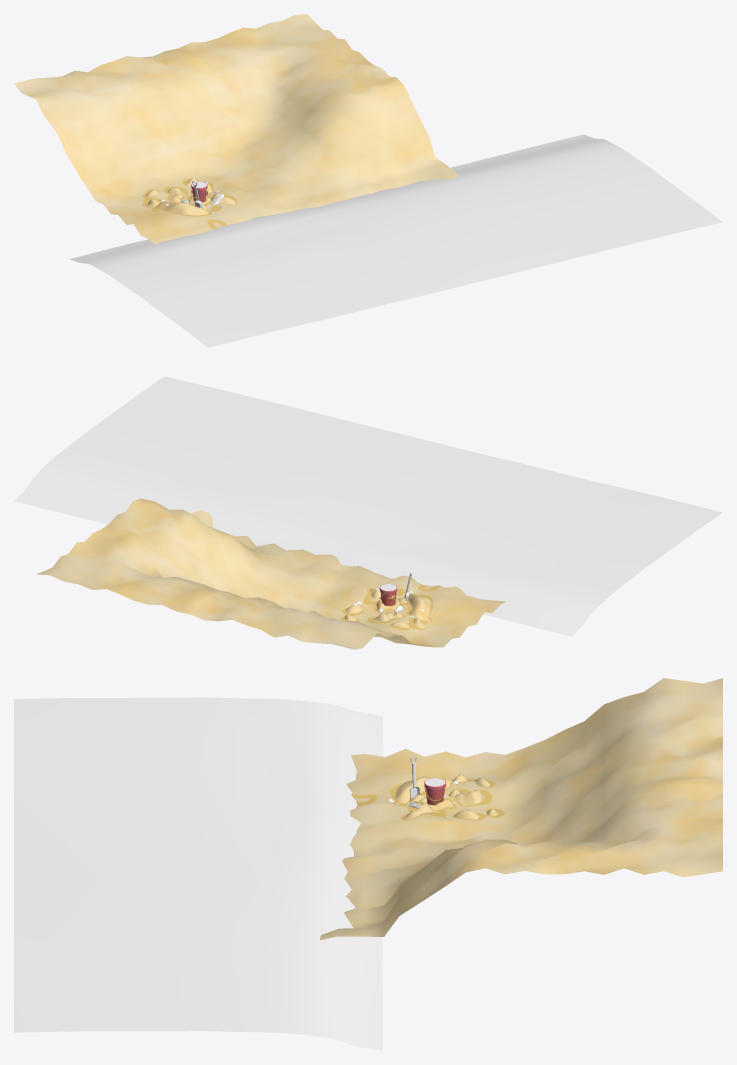
Rendered from BeachEimer_combined 2.fbx.
The picture shows the model from 3 angles, top to bottom: view 1: azimuth 30°, elevation 25°; view 2: azimuth 150°, elevation 25°; view 3: azimuth 270°, elevation 25°; orthographic projection. The views are drawn at different scales.
Parts seen in each view (by area): view 1: Meer, SandPlane, Sandhaufen; view 2: Meer, SandPlane, Sandhaufen; view 3: Meer, SandPlane, Sandhaufen.
Boxes of the visible parts, <box> form: Meer: <box>70,134,722,347</box>; SandPlane: <box>14,14,458,243</box>; Sandhaufen: <box>144,178,236,215</box>; Meer: <box>14,376,722,636</box>; SandPlane: <box>37,498,505,649</box>; Sandhaufen: <box>344,588,430,628</box>; Meer: <box>14,697,383,1050</box>; SandPlane: <box>320,678,722,939</box>; Sandhaufen: <box>395,774,497,820</box>.
Size of the model in its own units: 181278 by 26486 by 162809.
